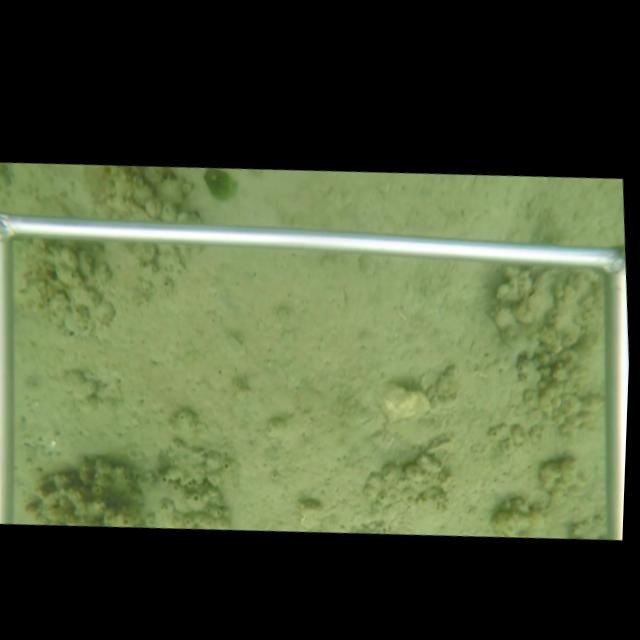Oyster-Closed: (517, 268, 563, 324)
Oyster-Indeterminate: (375, 380, 433, 427)
